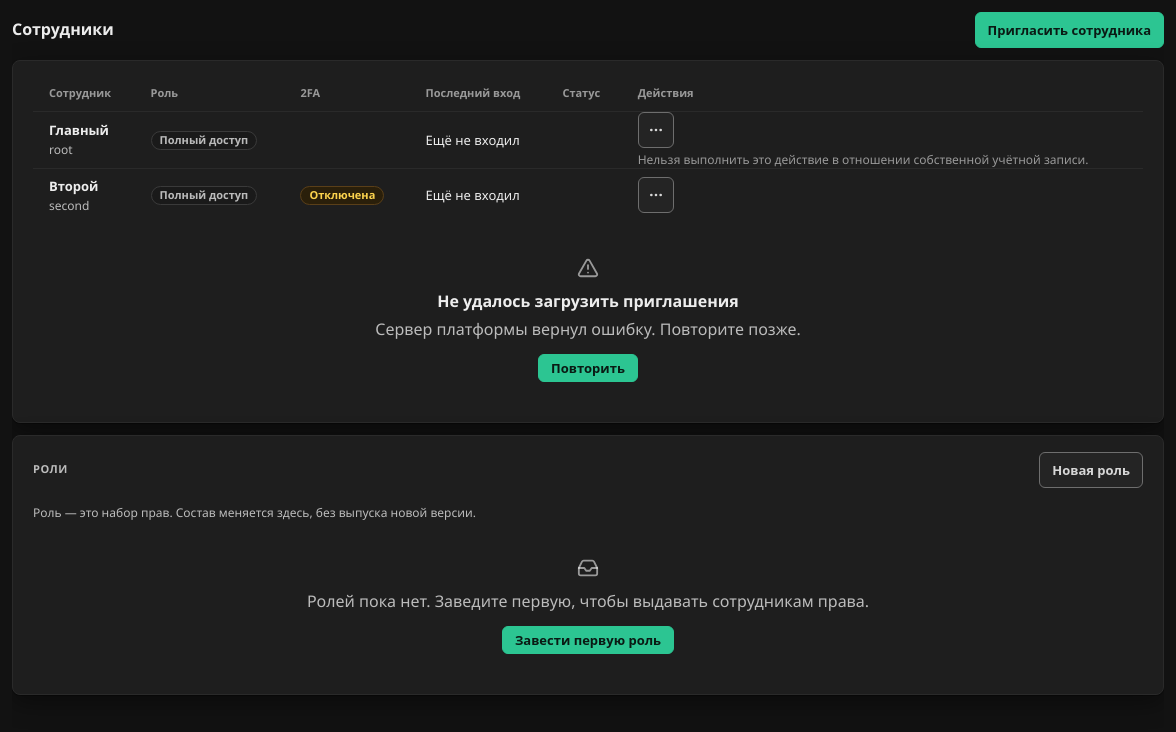
Test: SettingsScreen › отказ приглашений не прячет сотрудников и повторяет только приглашения
The width and height of the screenshot is (1176, 732).
Check: the text "Второй" is shown, box [49,176,98,194]
Check: the heading "Не удалось загрузить приглашения" is shown, box [437,290,739,312]
Click the button "Повторить" at (588, 368), box [538,354,638,382]
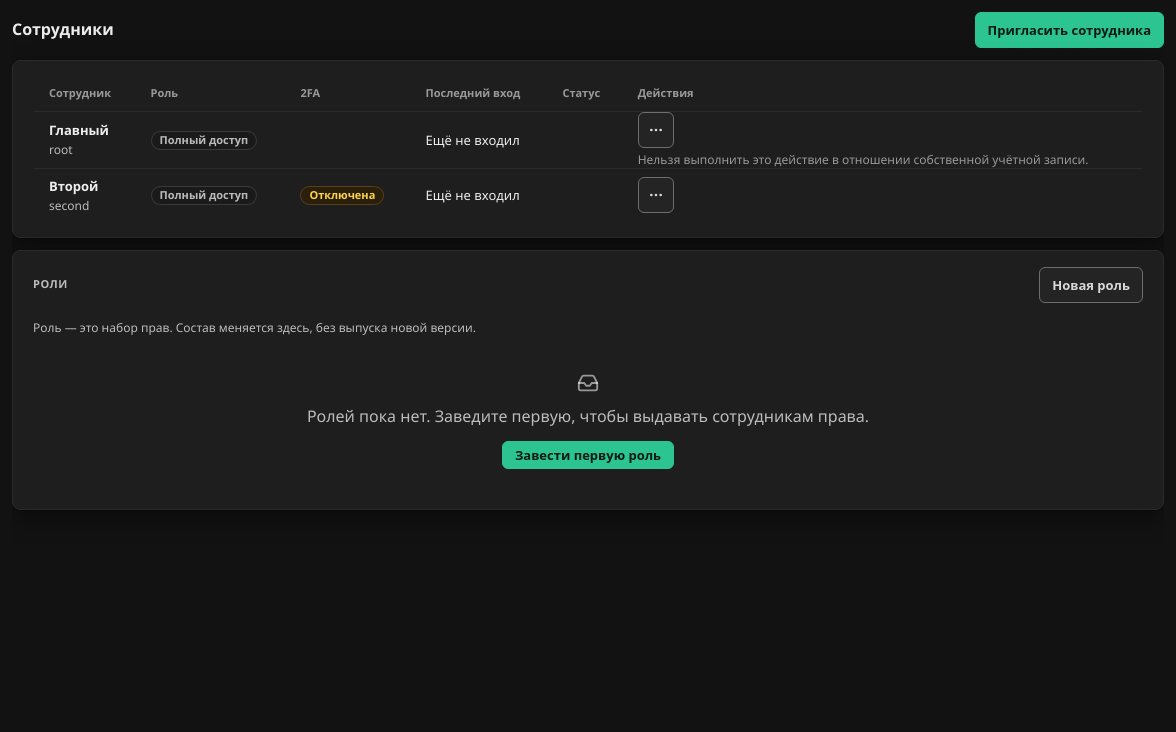
Check: the text "Второй" is shown, box [49,176,98,194]
Check: the heading "Не удалось загрузить приглашения" is gone
